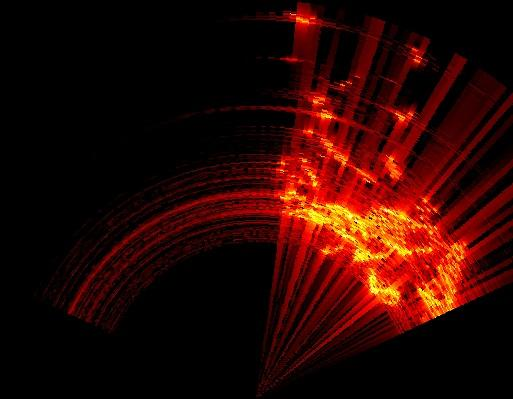shipwreck: (285, 191, 465, 316), (369, 269, 399, 304)
